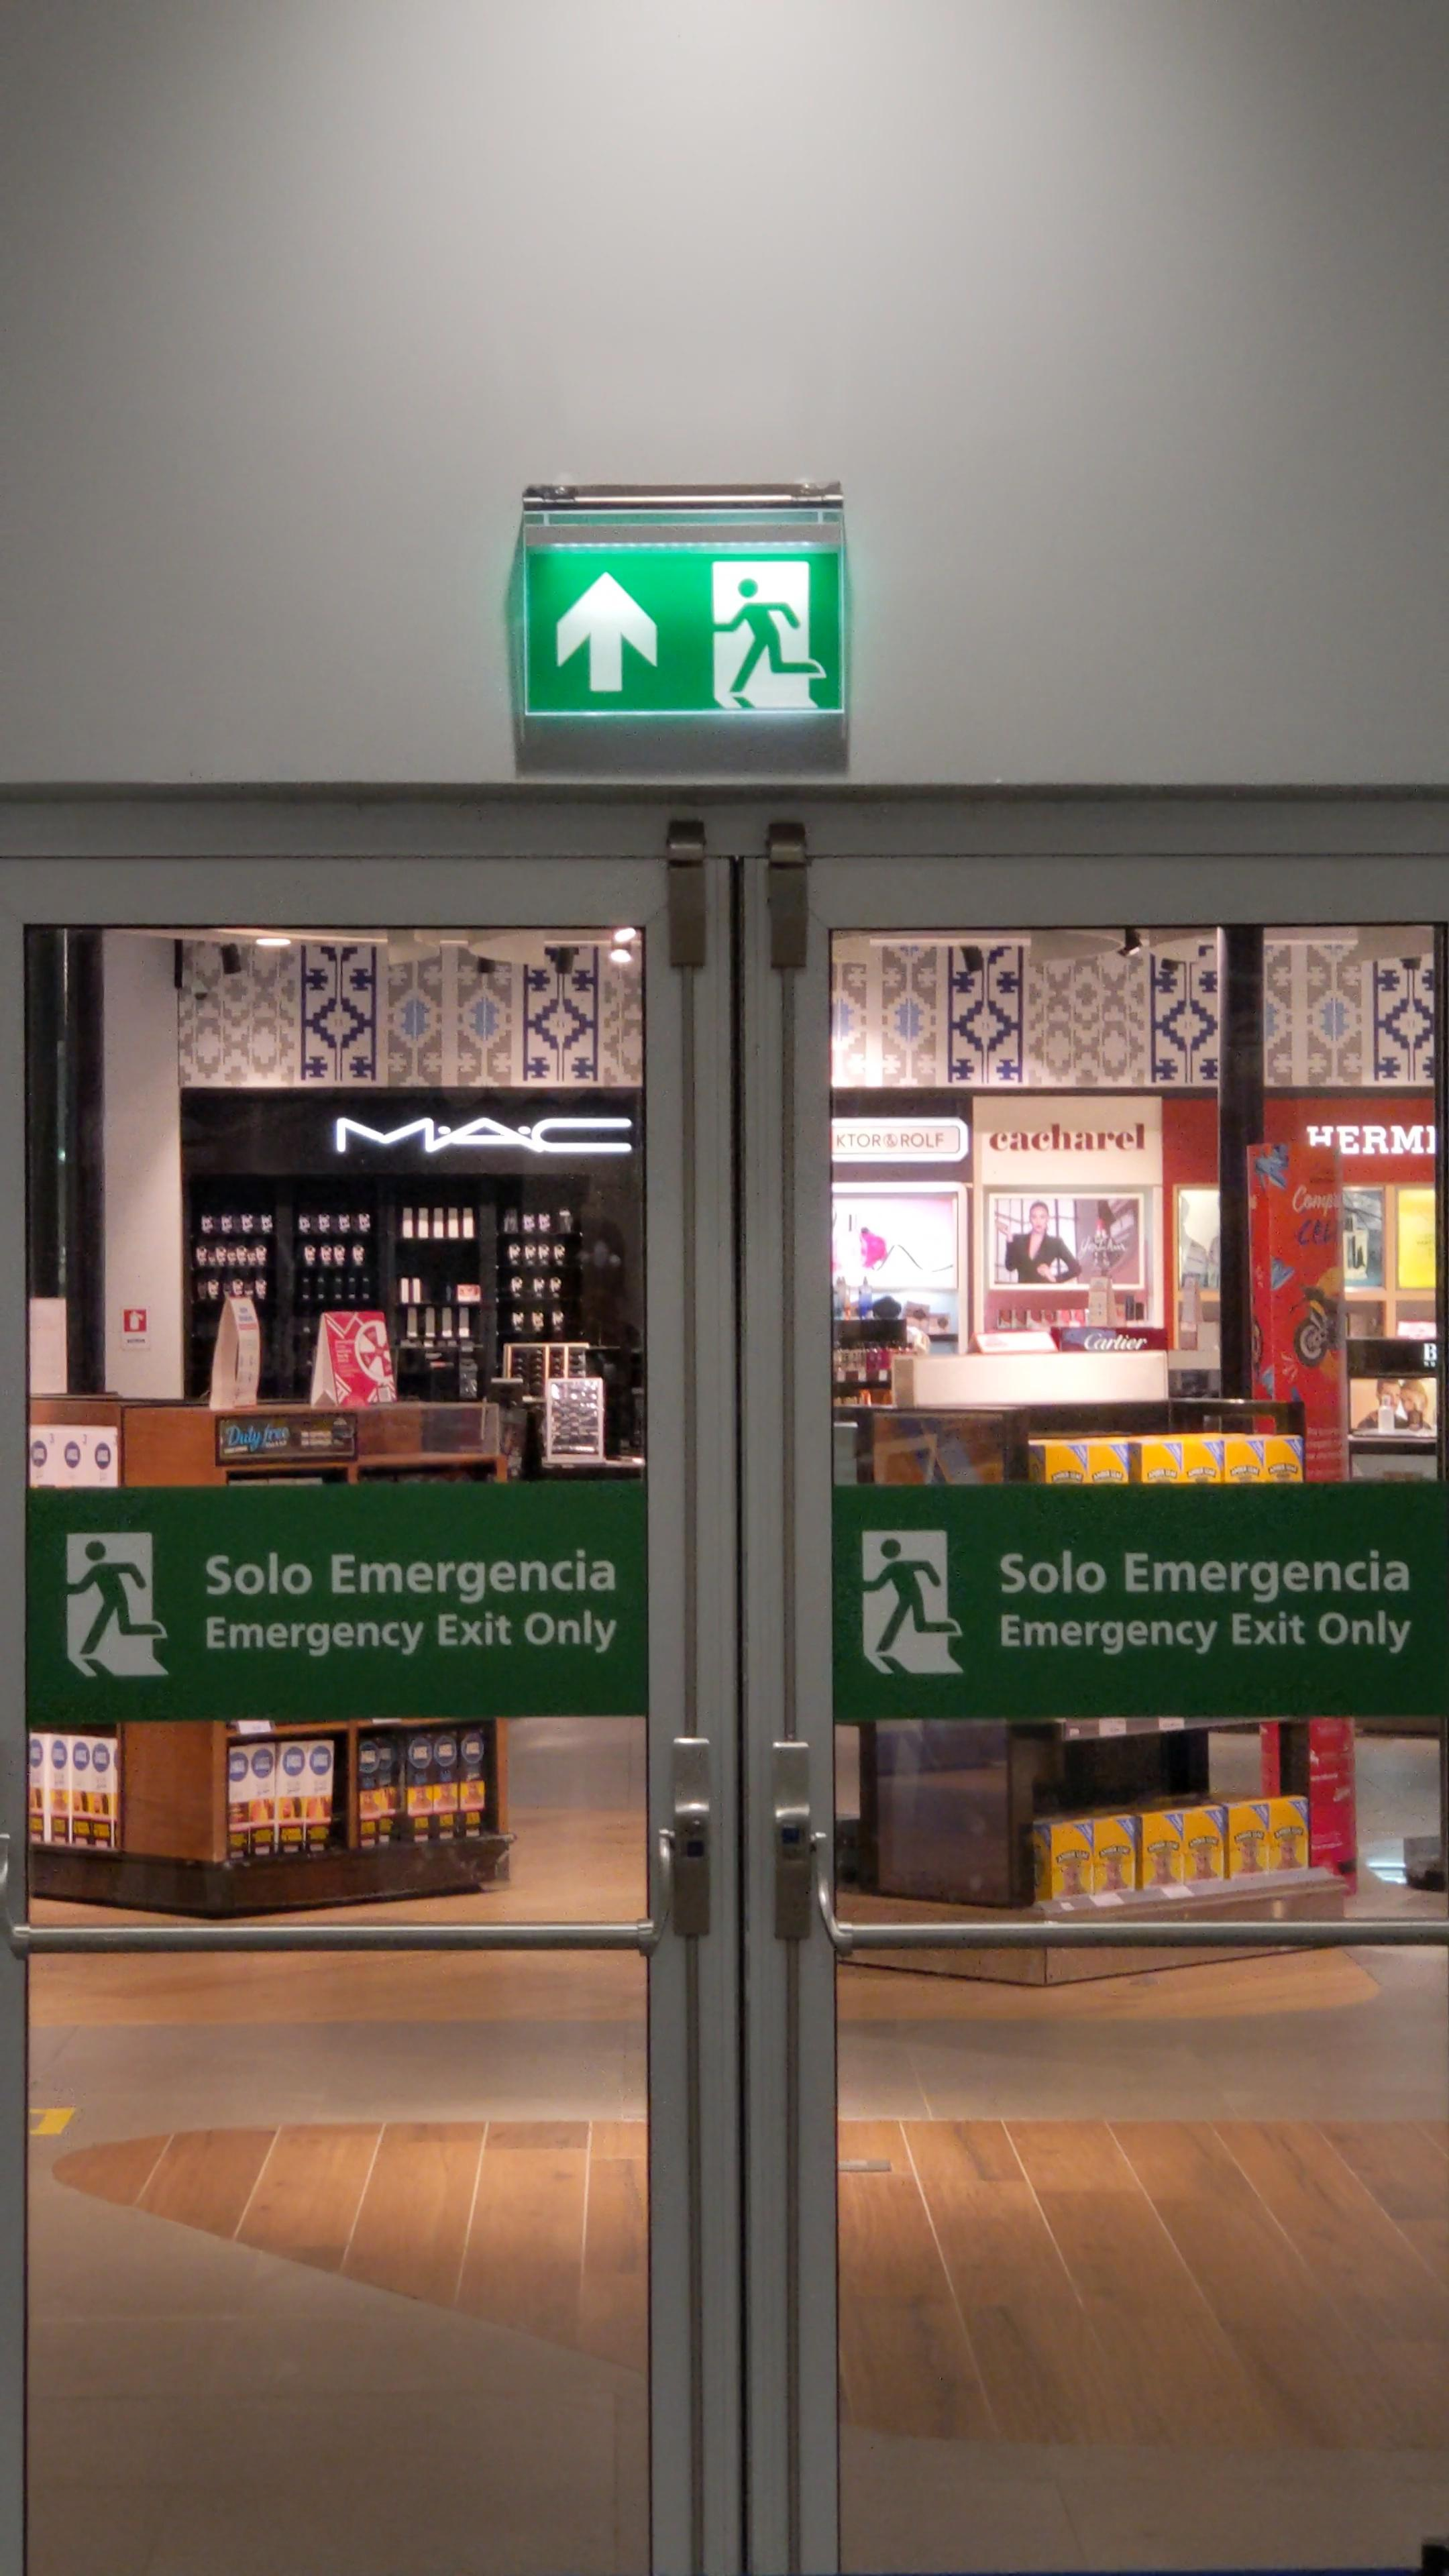emergency exit: (699, 554, 835, 720), (57, 1522, 175, 1684), (849, 1520, 966, 1684)
emergency up arrow: (554, 568, 662, 699)
